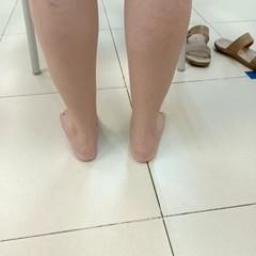Back View -Both Feet-: (49, 78, 173, 177)
